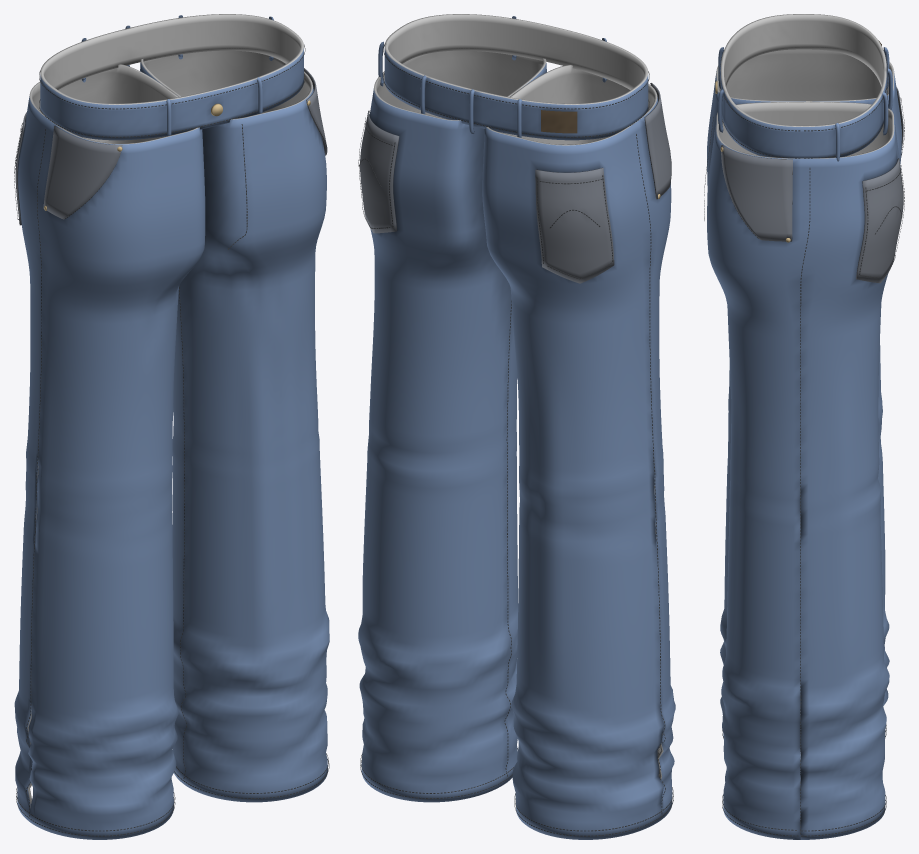
The model's file is jeans-wide-hi.glb.
3 views of the same model, side by side, from view 1: azimuth 30°, elevation 25°; view 2: azimuth 150°, elevation 25°; view 3: azimuth 270°, elevation 25° (orthographic). The views are drawn at different scales.
Visible parts, largest first — view 1: leg_r, leg_l, waistband, frontpocket.001, stitches; view 2: leg_r, leg_l, waistband, backpocket.001, stitches, backpocket, frontpocket.001, patch; view 3: leg_l, waistband, leg_r, frontpocket, backpocket, stitches.
Part boxes in pixels (box(x1,y1,x2,y2)): leg_r: box(14, 64, 205, 839); leg_l: box(140, 50, 329, 802); waistband: box(40, 14, 303, 140); frontpocket.001: box(43, 125, 122, 219); stitches: box(14, 44, 329, 836); leg_r: box(482, 64, 675, 839); leg_l: box(358, 50, 546, 802); waistband: box(384, 14, 648, 140); backpocket.001: box(535, 167, 614, 283); stitches: box(358, 44, 673, 836); backpocket: box(360, 110, 399, 233); frontpocket.001: box(644, 83, 671, 199); patch: box(541, 110, 577, 133); leg_l: box(707, 102, 900, 839); waistband: box(720, 14, 886, 158); leg_r: box(707, 49, 901, 739); frontpocket: box(721, 145, 792, 241); backpocket: box(856, 158, 903, 283); stitches: box(704, 53, 904, 836).
Bounding box in the file's own units: 0.4256 × 1.01 × 0.2613.
